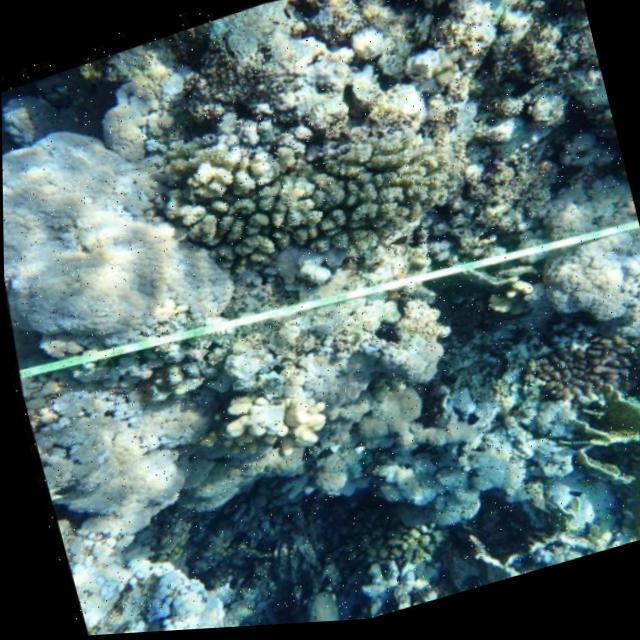Bleached Coral: (1, 53, 267, 388), (15, 336, 209, 561), (172, 328, 351, 498), (521, 167, 640, 382), (79, 506, 246, 637)
